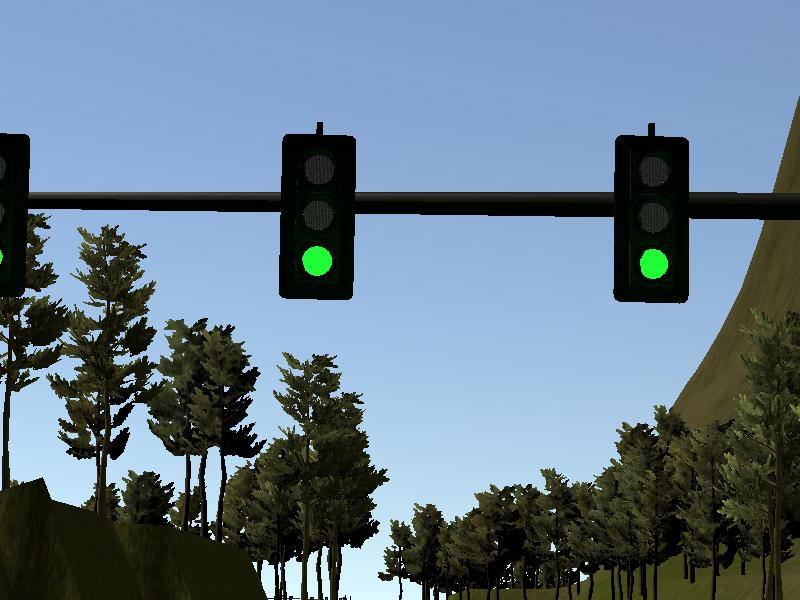not_red: (614, 132, 690, 302), (280, 130, 354, 301)
